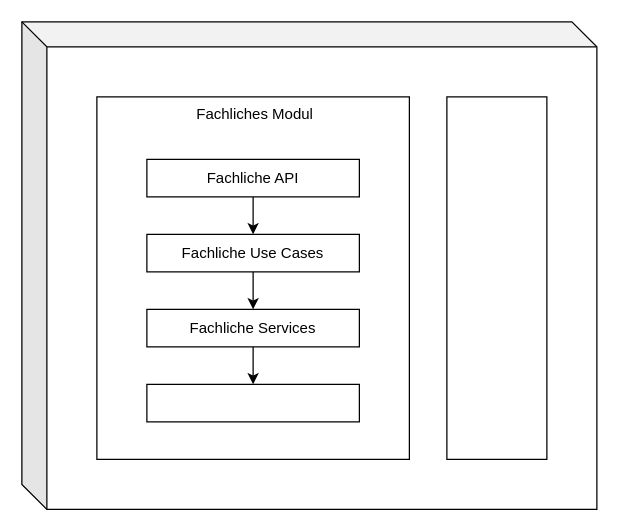
The diagram is 619 pixels wide and 531 high, and some of its shapes have lost their labels. The shapes that lost their labels are listed below. From the top down, each one's centre as x and y in pixels, then its label:
At point (496, 277): "Modul".
At point (252, 402): "Fachliche Entities".
